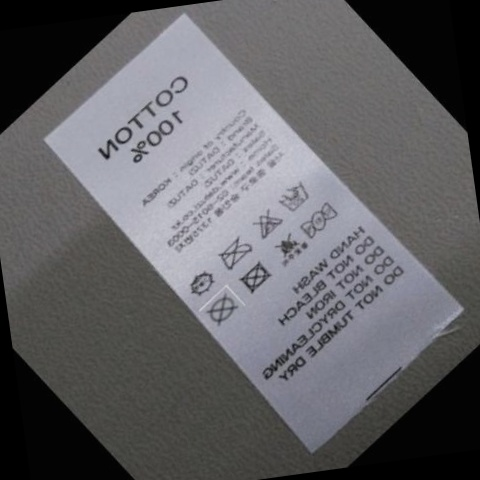DN_dry_clean: (195, 288, 242, 329)
DN_iron: (214, 234, 256, 268)
DN_tumble_dry: (234, 261, 274, 293)
hand_wash: (275, 181, 311, 214)
line_dry_in_shade: (181, 267, 216, 299)
non_chlorine_bleach: (249, 210, 285, 239)
wring: (298, 200, 343, 240)
